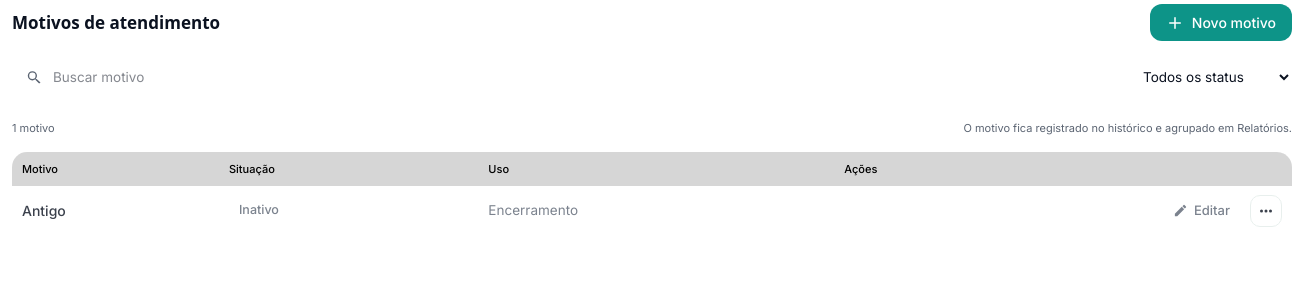
Test case: ReasonsAdminTab › shows Ativar for an inactive reason
The image size is (1304, 290).
Click the button named "mais ações". click: [1266, 210]
box: left=1250, top=194, right=1282, bottom=226
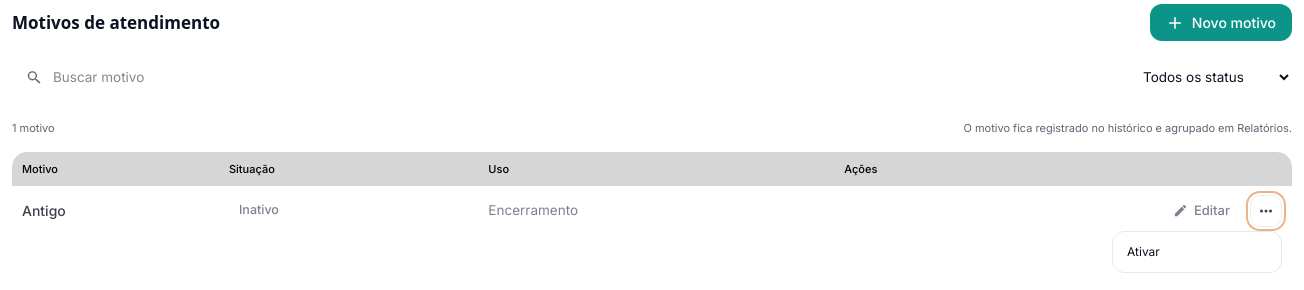
Check: the button "Ativar" is shown, box left=1117, top=236, right=1277, bottom=268
